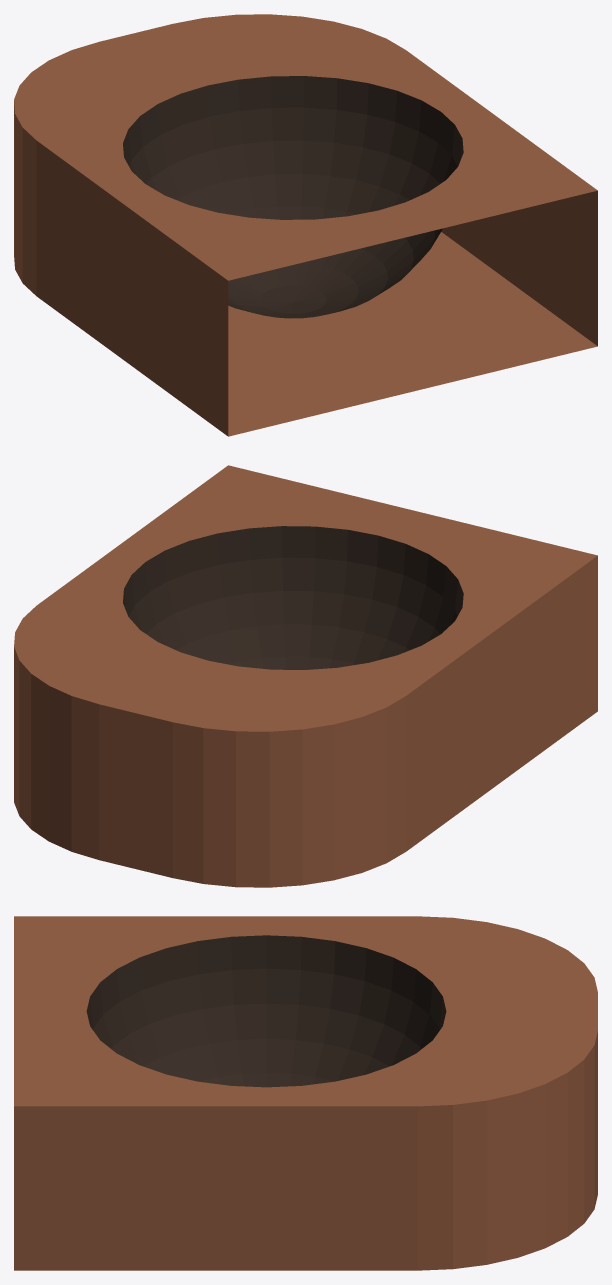
File: Rounded Cannon Ball Holder End Piece.fbx
3 views of the same model, one above another, from view 1: azimuth 30°, elevation 25°; view 2: azimuth 150°, elevation 25°; view 3: azimuth 270°, elevation 25° (orthographic). The views are drawn at different scales.
Visible parts, largest first — view 1: Rounded Cannon Ball Holder End Piece; view 2: Rounded Cannon Ball Holder End Piece; view 3: Rounded Cannon Ball Holder End Piece.
Boxes of the visible parts, <box> form: Rounded Cannon Ball Holder End Piece: <box>14,14,597,436</box>; Rounded Cannon Ball Holder End Piece: <box>14,465,597,887</box>; Rounded Cannon Ball Holder End Piece: <box>14,916,597,1270</box>.
Bounding box in the file's own units: 250 × 101 × 325.
